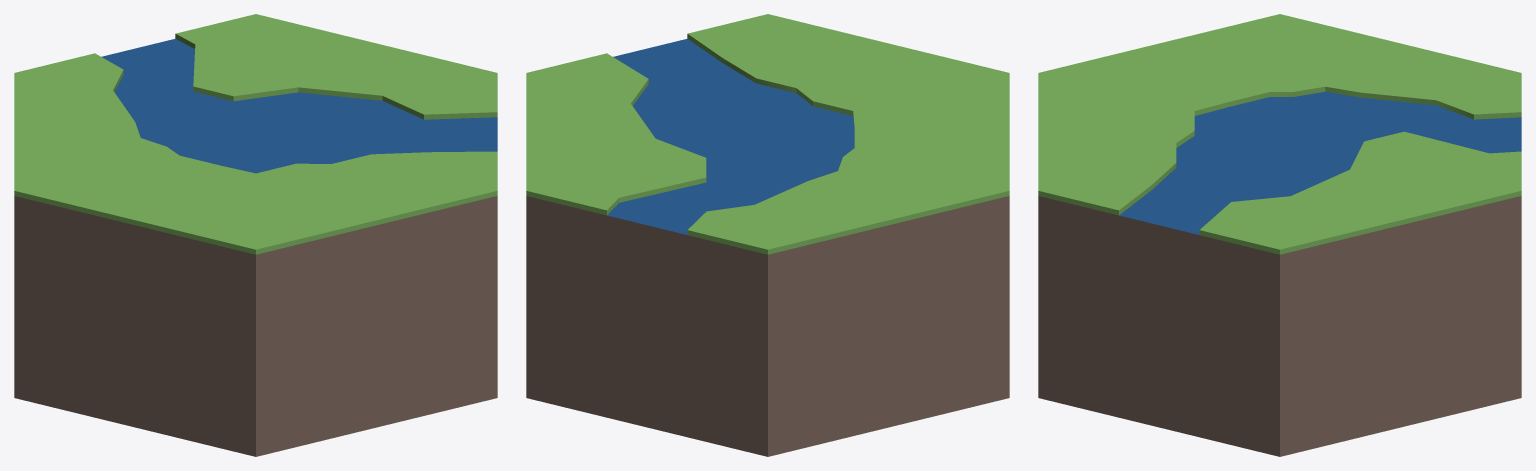
The model's file is tile_river04.fbx.
The picture shows the model from 3 angles, left to right: view 1: azimuth 30°, elevation 25°; view 2: azimuth 150°, elevation 25°; view 3: azimuth 270°, elevation 25°; orthographic projection.
Parts seen in each view (by area): view 1: Tile_River2; view 2: Tile_River2; view 3: Tile_River2.
Boxes of the visible parts, left/top/right/bottom form: Tile_River2: left=14, top=14, right=497, bottom=456; Tile_River2: left=526, top=14, right=1009, bottom=456; Tile_River2: left=1038, top=14, right=1521, bottom=456.
Size of the model in its own units: 2 by 0.82 by 1.73.
